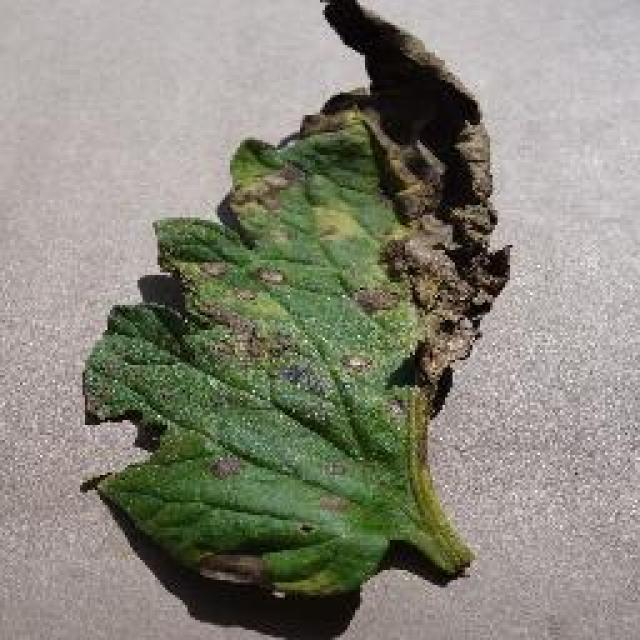Tomato Early blight leaf: (99, 5, 519, 627)
